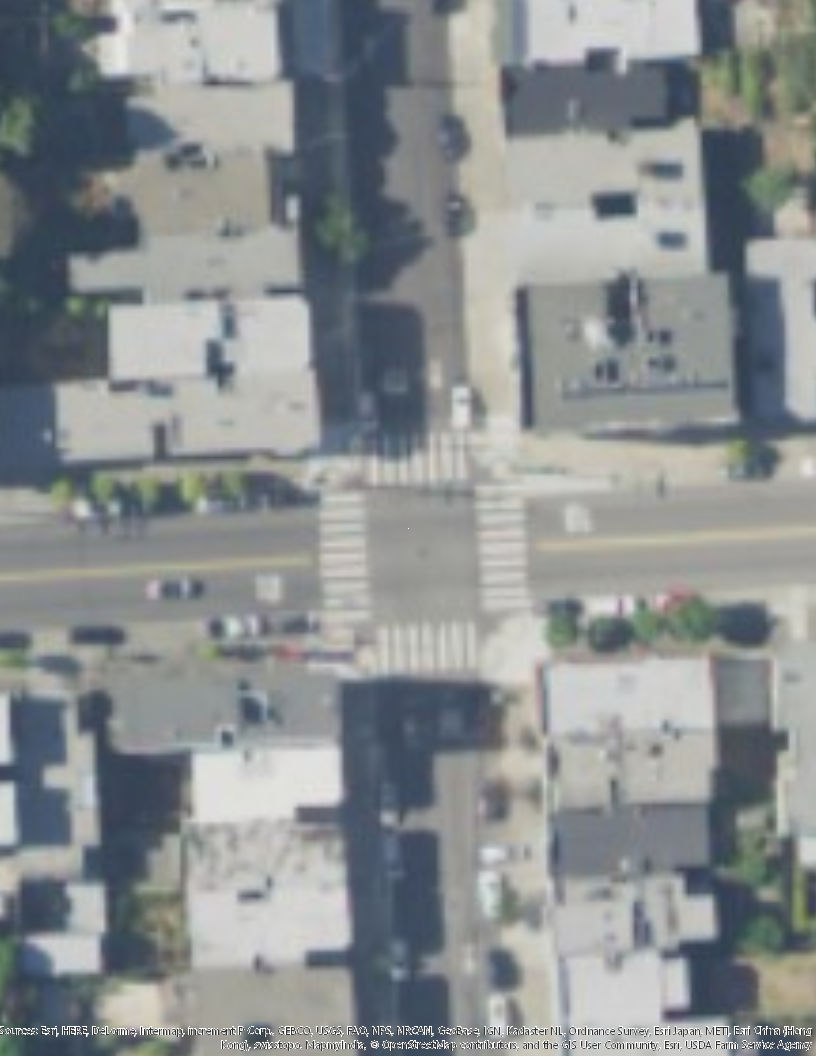zebracross: (318, 492, 372, 619), (473, 490, 529, 612), (370, 430, 466, 490), (378, 624, 480, 675)
